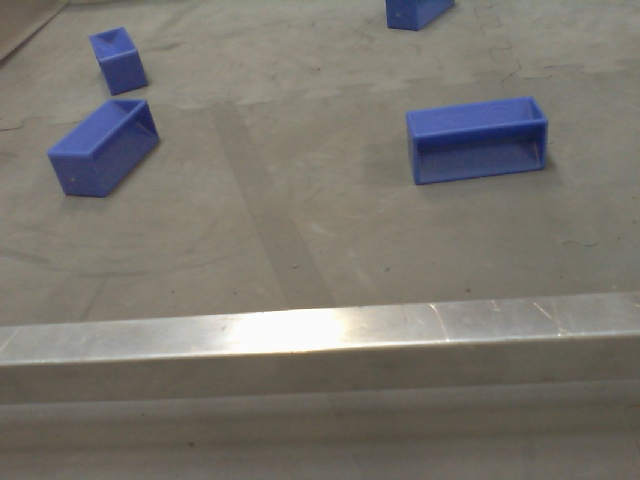BlueSample: (403, 94, 548, 187), (49, 100, 161, 201), (86, 26, 151, 94), (380, 1, 458, 35)
